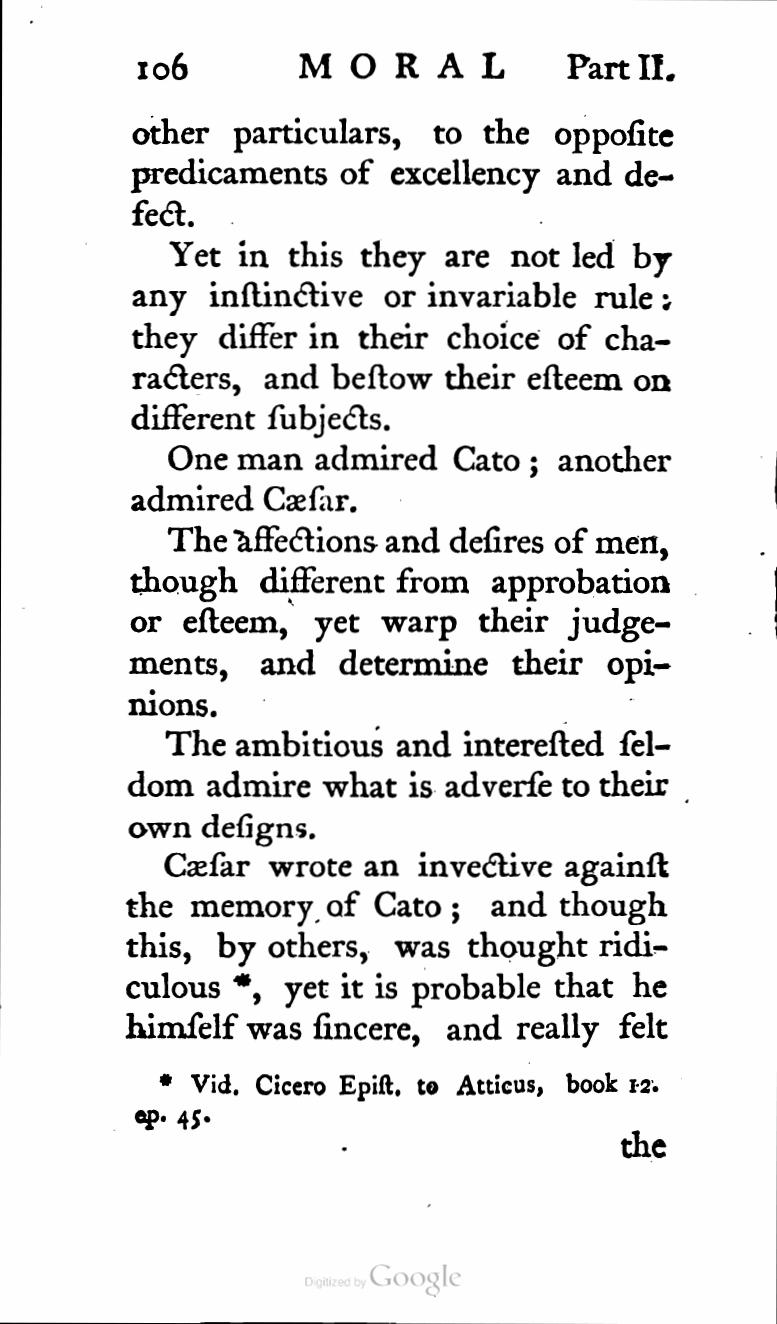bottom_p: (127, 112, 682, 229)
catchword: (618, 1126, 671, 1162)
footnotes: (130, 1068, 664, 1136)
full_p: (126, 234, 680, 441), (126, 520, 679, 722), (124, 724, 676, 848), (126, 440, 681, 517)
header: (292, 46, 680, 89)
page_num: (130, 44, 196, 87)
top_p: (124, 848, 675, 1051)
